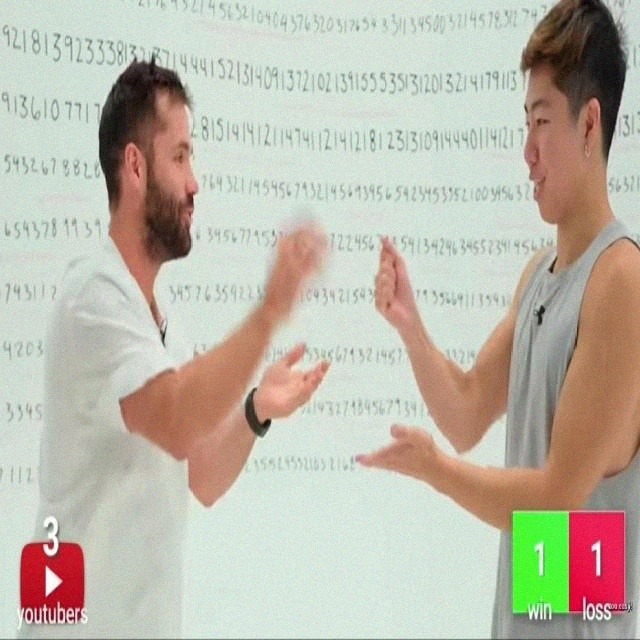Paper: (265, 221, 328, 326)
Rock: (374, 234, 410, 324)
